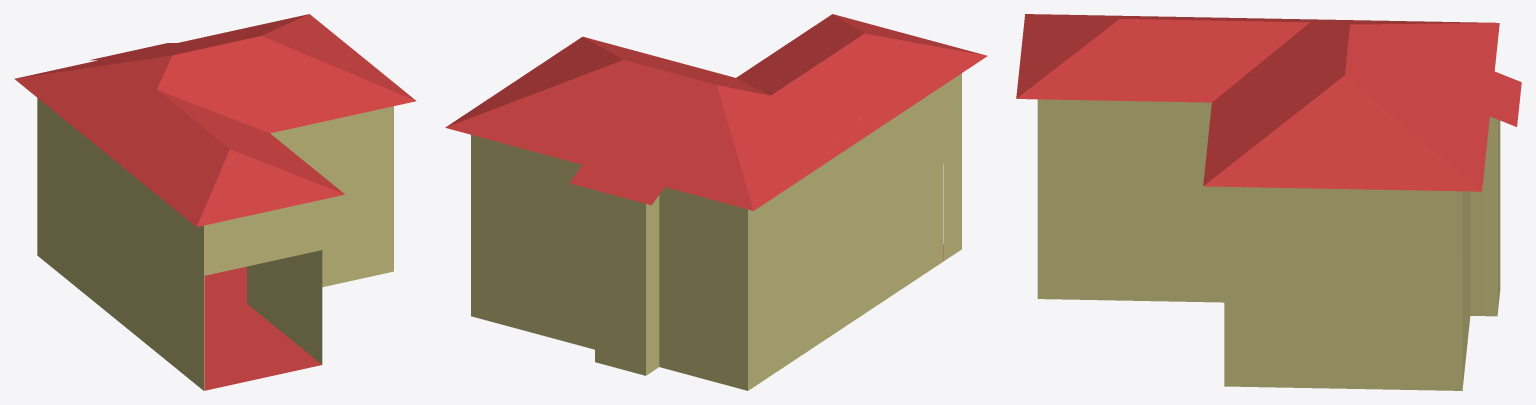
The picture shows the model from 3 angles, left to right: view 1: azimuth 30°, elevation 25°; view 2: azimuth 150°, elevation 25°; view 3: azimuth 270°, elevation 25°; orthographic projection. The views are drawn at different scales.
Bounding box in the file's own units: 15.41 × 18.54 × 10.64.
